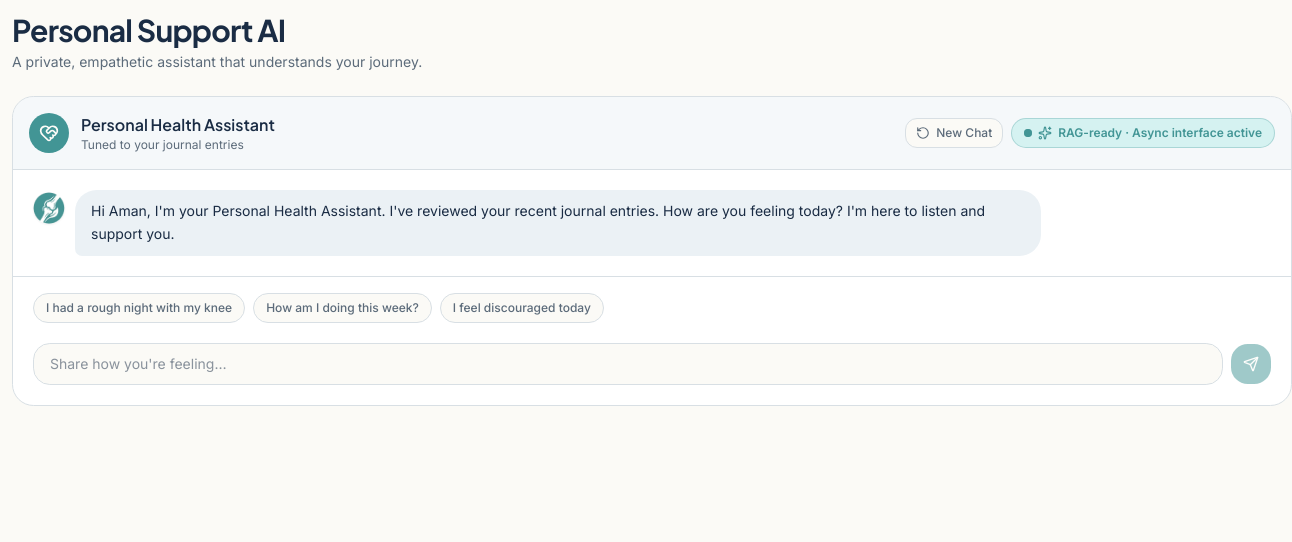
Test case: PersonalAI › replaces loading bubble with error message on failure
The width and height of the screenshot is (1292, 542).
Type "I need help" into the field.
click(628, 364); type("I need help")  # box [33,342,1223,384]
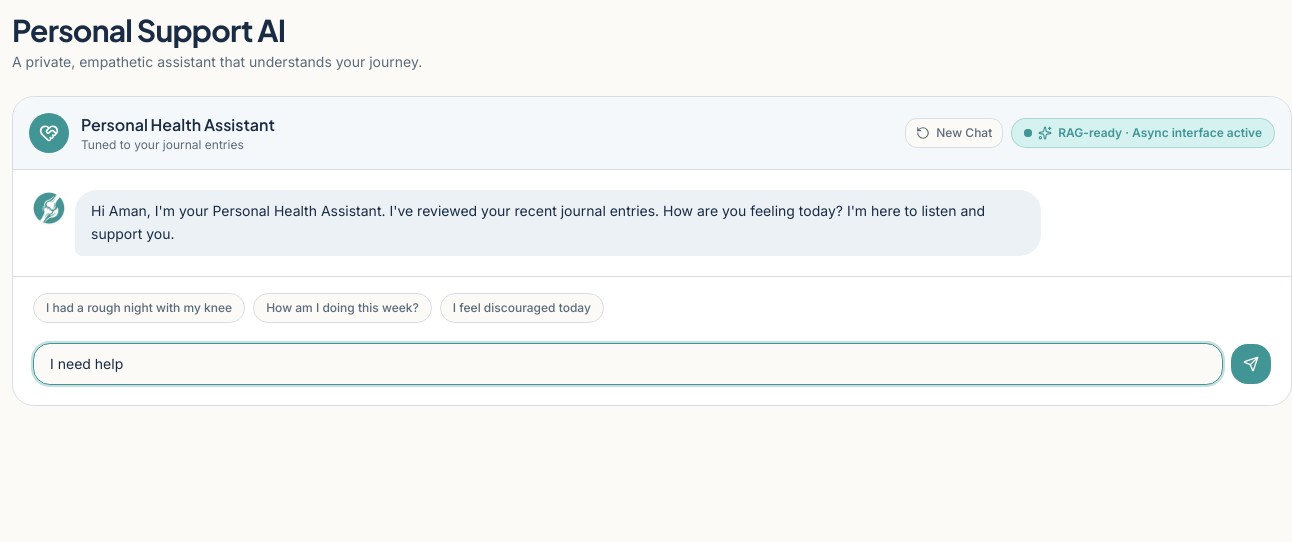
Press Enter
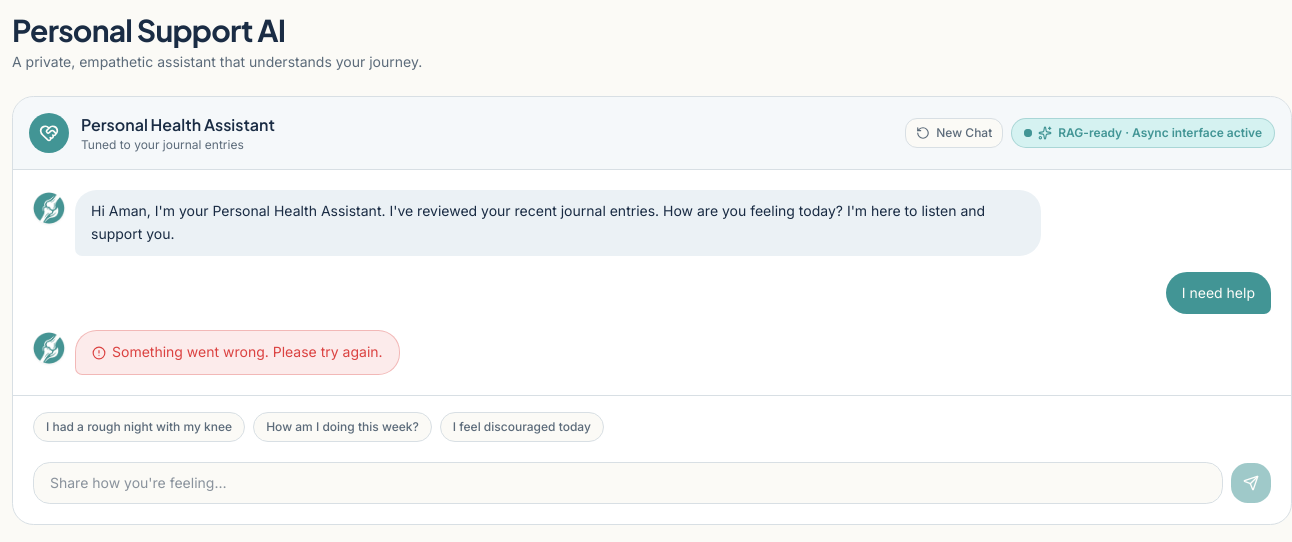
expect the field is enabled: met, box [33,462,1223,504]
expect the text "Something went wrong. Please try again." is shown: met, box [92,341,383,364]
